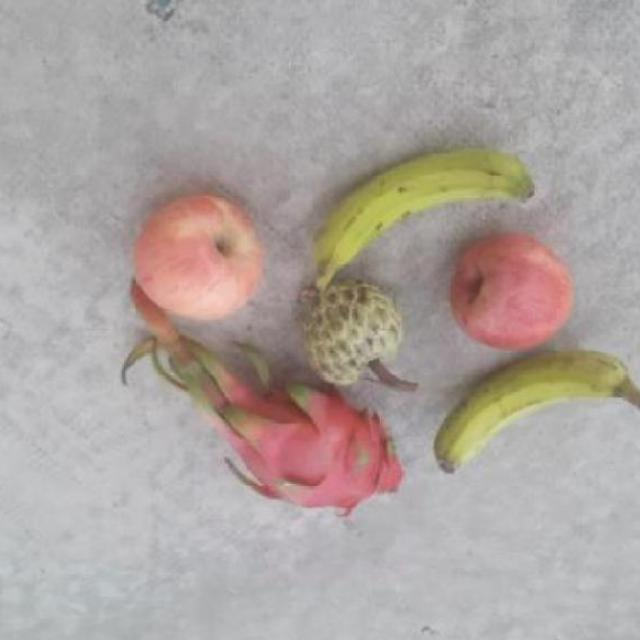apple: (126, 190, 266, 326), (450, 238, 574, 346)
banana: (300, 143, 542, 301), (428, 354, 640, 482)
dragon fruit: (232, 386, 406, 516)
sugar apple: (298, 276, 410, 391)
